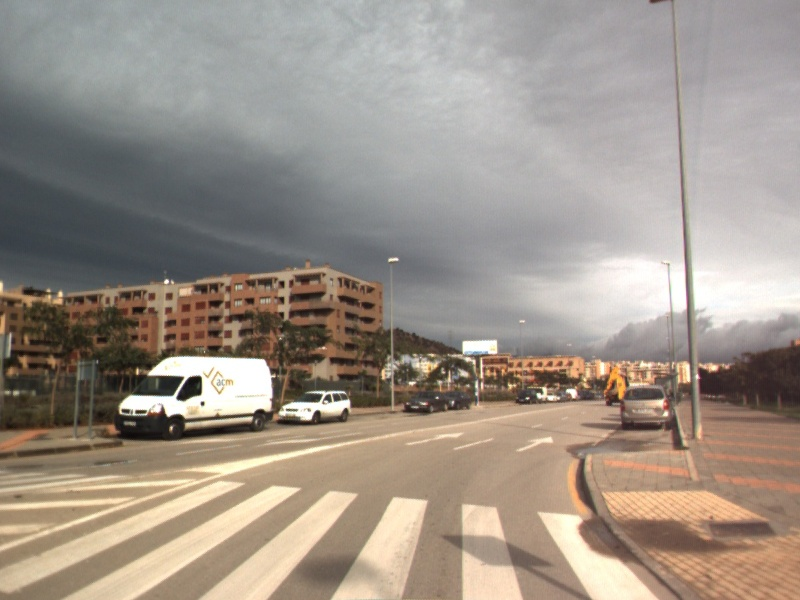STRAIGHT: (403, 430, 466, 447), (514, 434, 555, 453)
